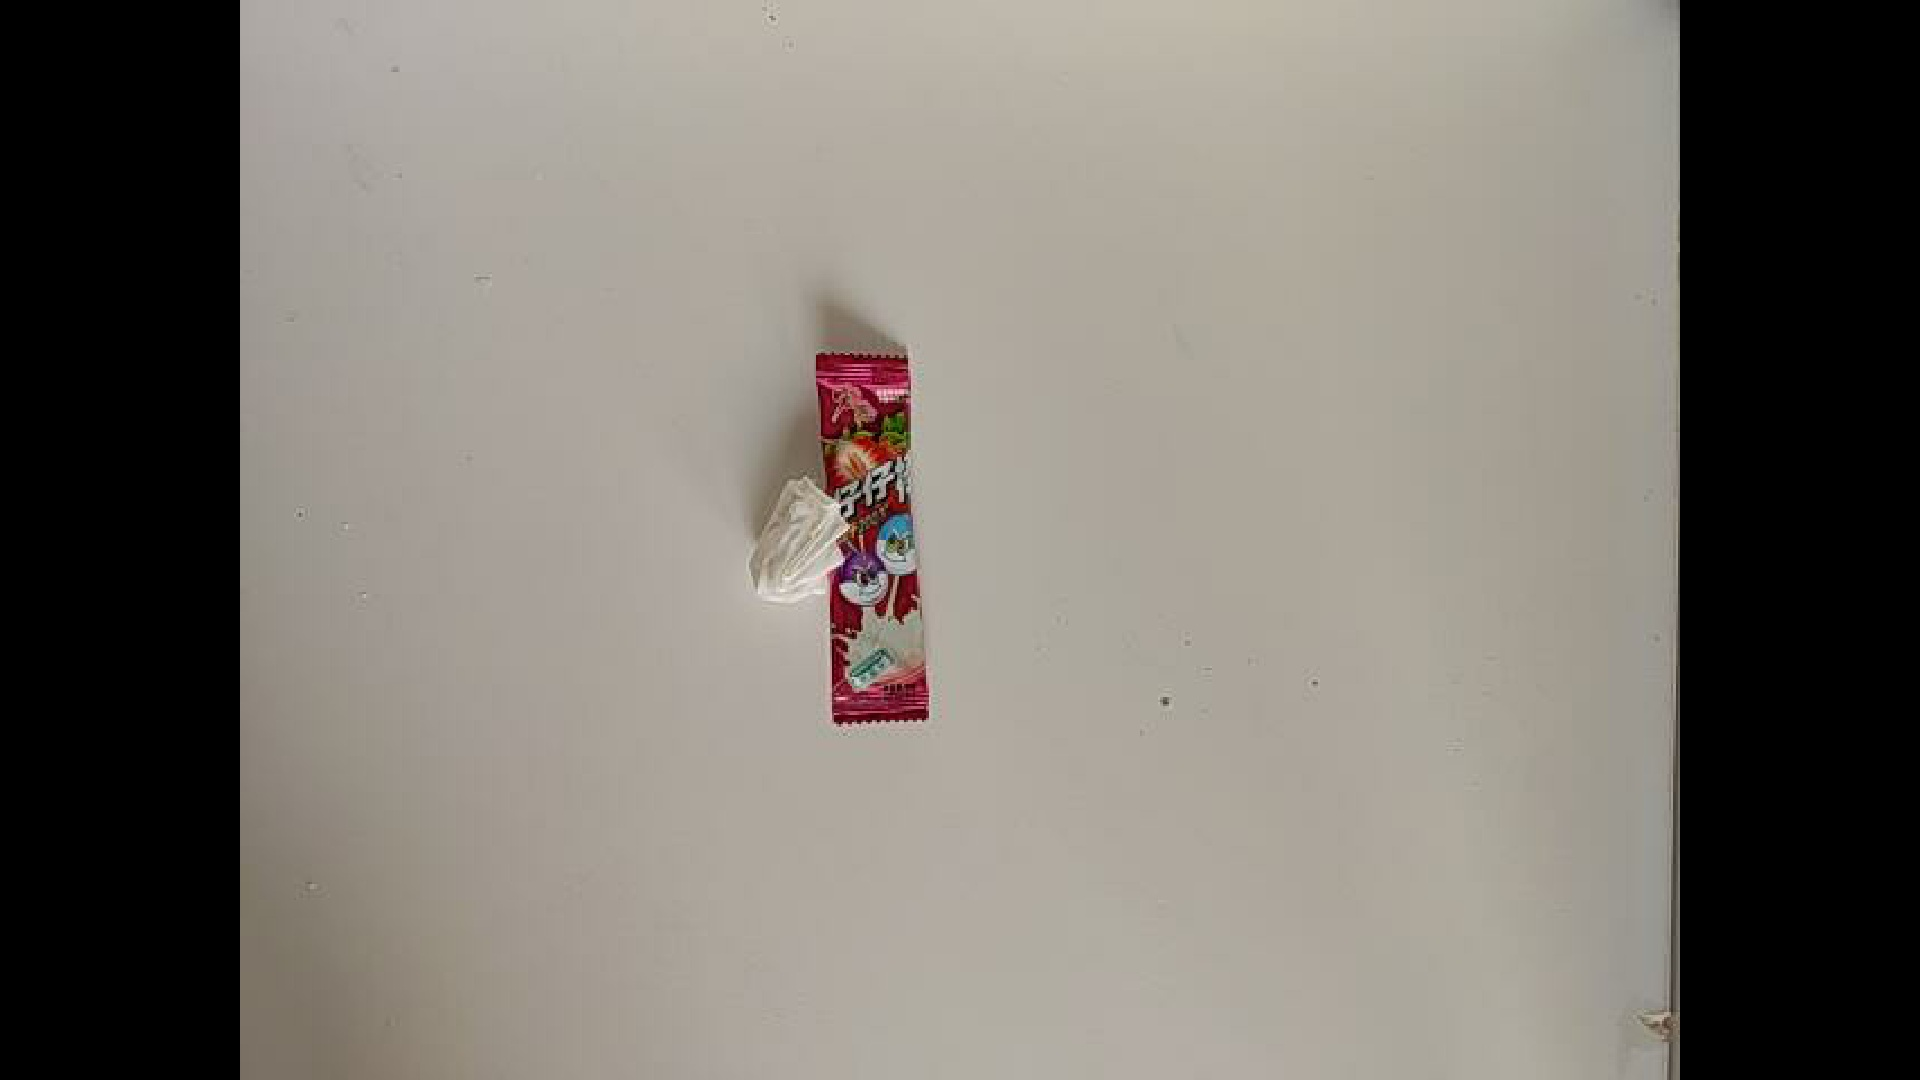sugar: (814, 351, 935, 728)
